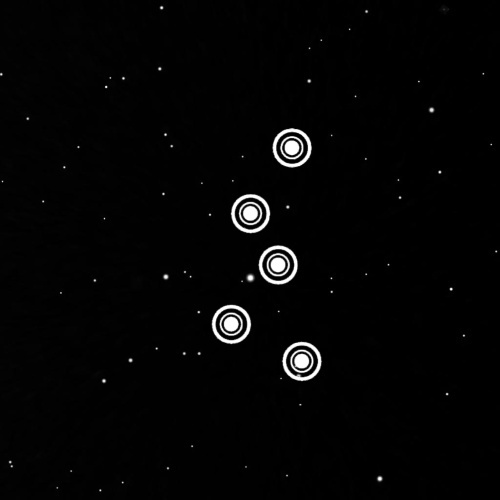cassiopeia: (194, 111, 334, 394)
